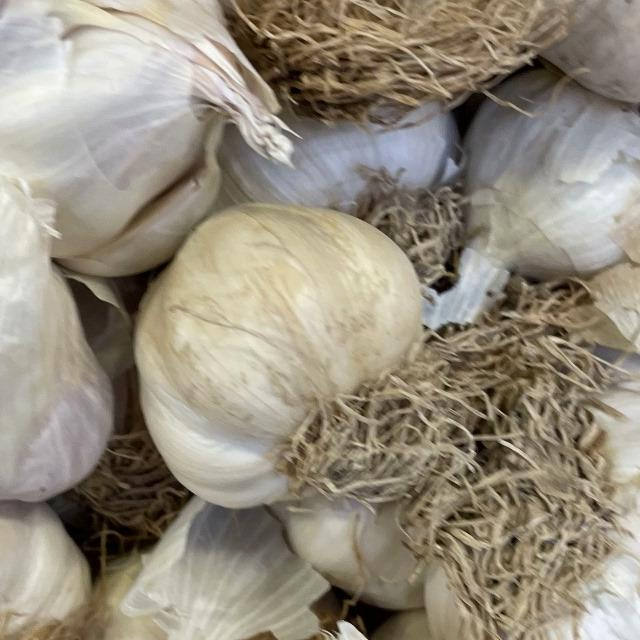garlic: (110, 178, 492, 535), (0, 130, 122, 562)
